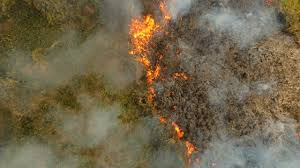fire: (126, 1, 193, 156)
